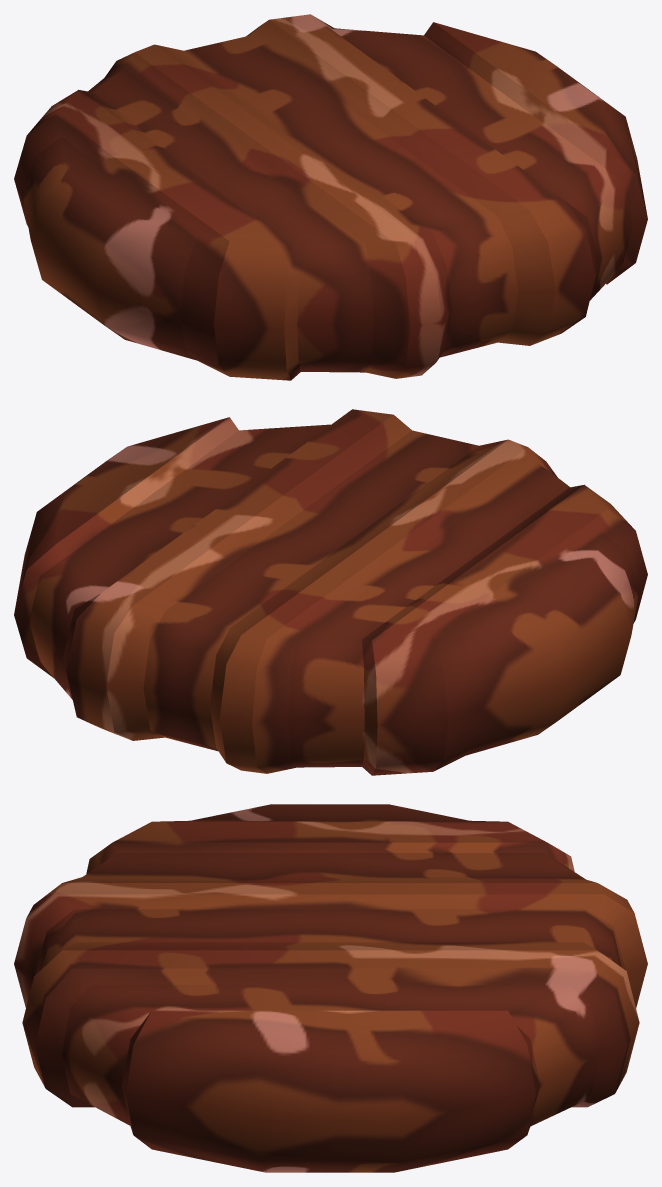
The model's file is Beef_Meat_01_Patty_Ready.fbx.
3 renders of one model, top to bottom at view 1: azimuth 30°, elevation 25°; view 2: azimuth 150°, elevation 25°; view 3: azimuth 270°, elevation 25°, orthographic. The views are drawn at different scales.
Visible parts, largest first — view 1: Beef_Meat_01_Patty_Ready; view 2: Beef_Meat_01_Patty_Ready; view 3: Beef_Meat_01_Patty_Ready.
Boxes of the visible parts, left/top/right/bottom form: Beef_Meat_01_Patty_Ready: left=14, top=14, right=647, bottom=380; Beef_Meat_01_Patty_Ready: left=14, top=409, right=647, bottom=775; Beef_Meat_01_Patty_Ready: left=14, top=804, right=647, bottom=1172.
Size of the model in its own units: 28.23 by 6.79 by 28.09.
